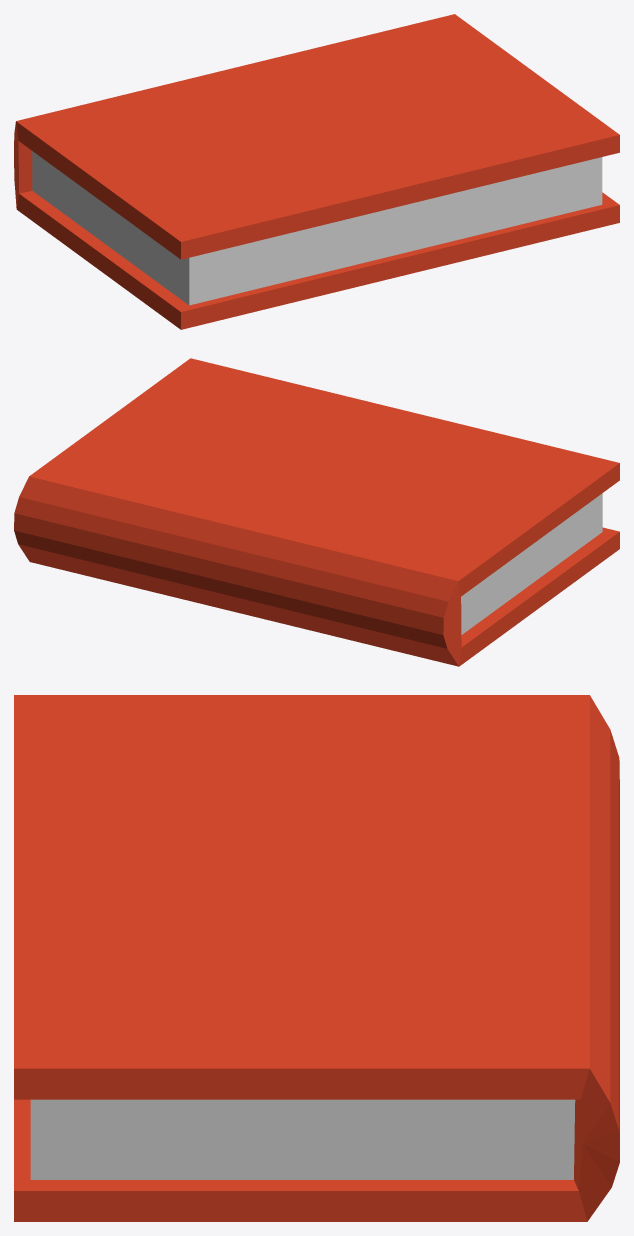
The model's file is Book.fbx.
3 renders of one model, top to bottom at view 1: azimuth 30°, elevation 25°; view 2: azimuth 150°, elevation 25°; view 3: azimuth 270°, elevation 25°, orthographic. The views are drawn at different scales.
Visible parts, largest first — view 1: Book; view 2: Book; view 3: Book.
Boxes of the visible parts, bbox=[...] form: Book: bbox=[14, 14, 619, 329]; Book: bbox=[14, 358, 619, 666]; Book: bbox=[14, 695, 619, 1221].
Size of the model in its own units: 34.2 by 6.45 by 23.09.
